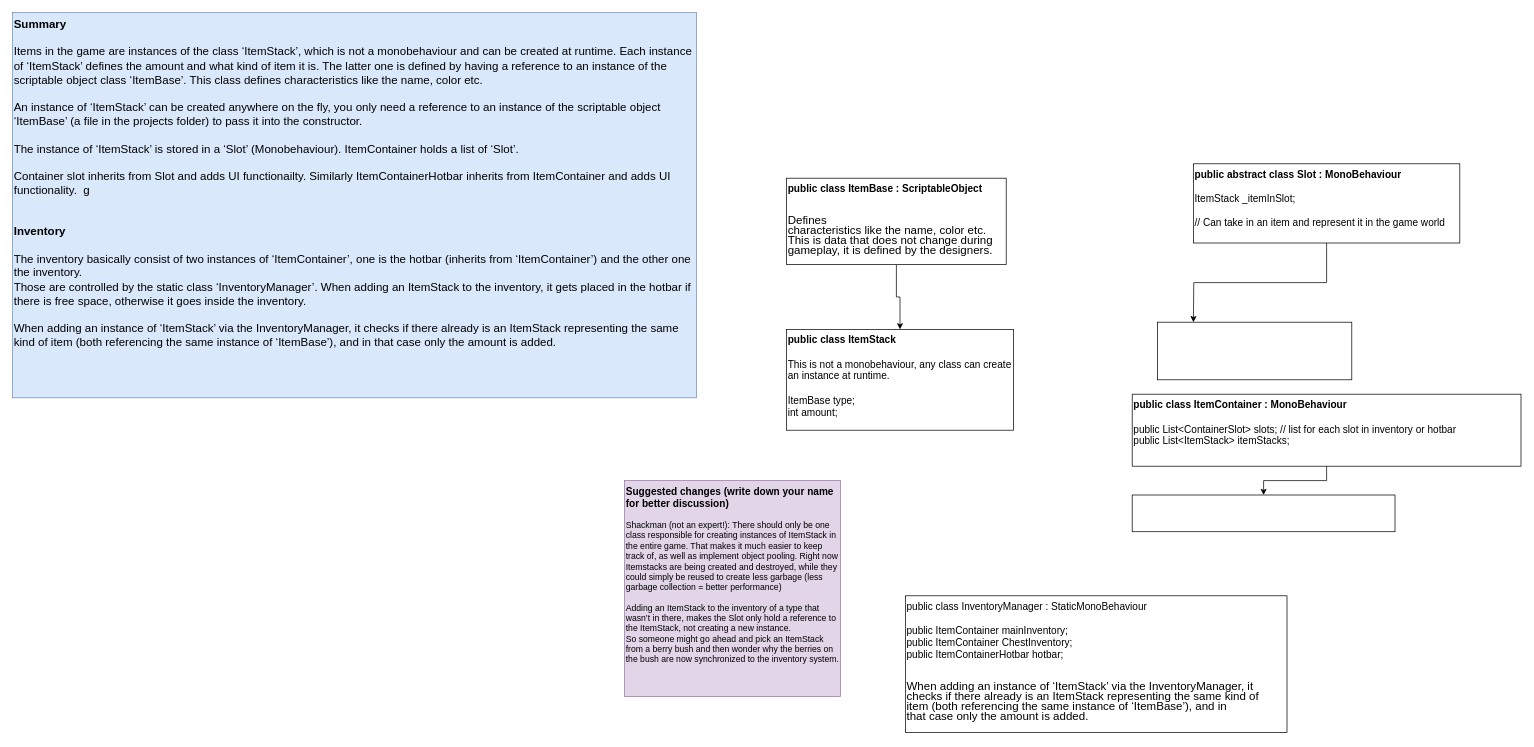
This 1534x747 diagram has some shape labels left out. Each missing label, with the centre of its shape:
"public class ContainerSlot : Slot Adds UI functionality to Slot" goes at (x=1254, y=350).
"public class ItemContainerHotbar : ItemContainer" goes at (x=1263, y=513).
